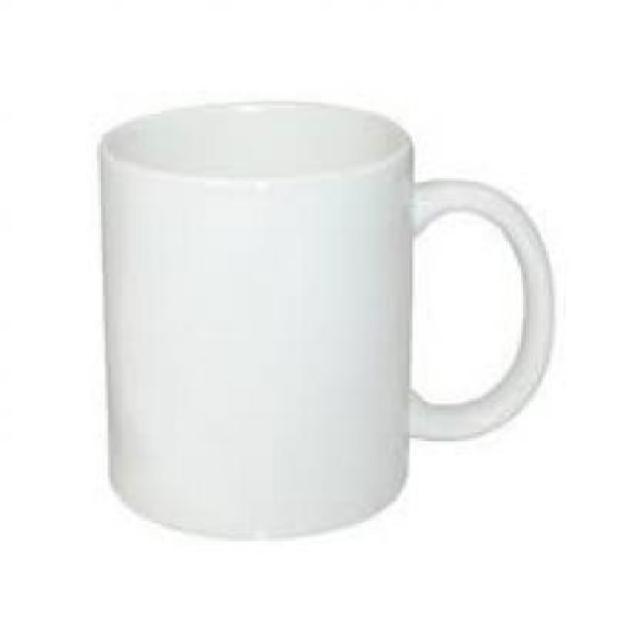cup: (80, 91, 572, 563)
